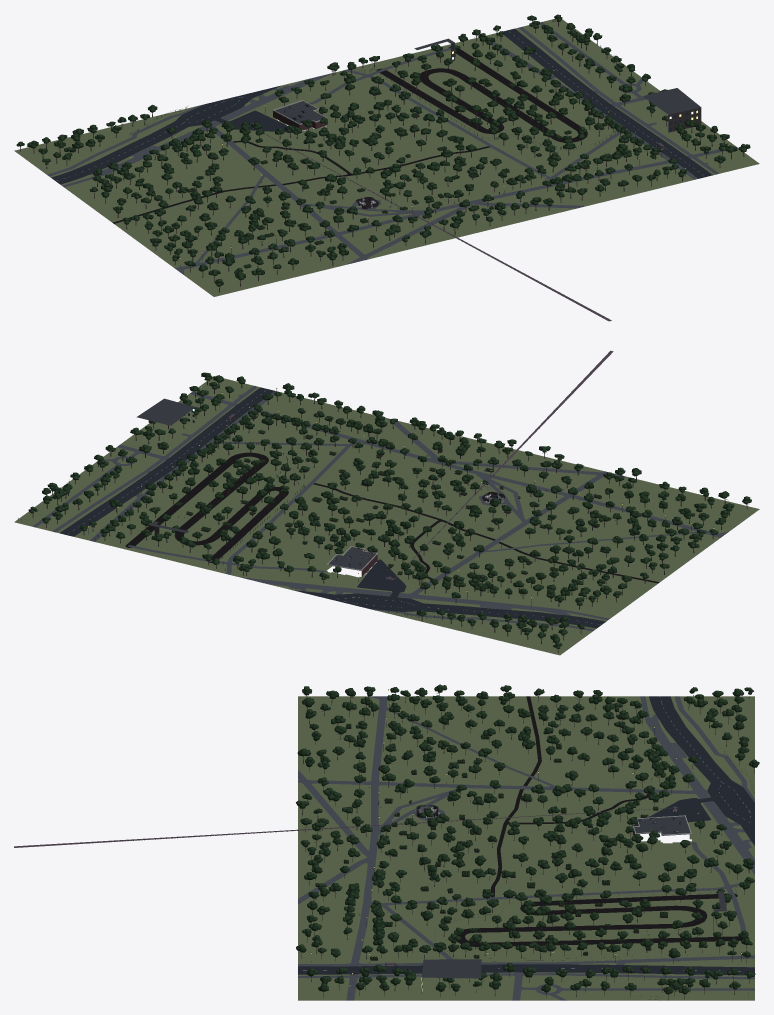
File: level.glb
3 views of the same model, one above another, from view 1: azimuth 30°, elevation 25°; view 2: azimuth 150°, elevation 25°; view 3: azimuth 270°, elevation 25° (orthographic). The views are drawn at different scales.
Visible parts, largest first — view 1: static, canopies, far_canopies; view 2: static, canopies, far_canopies; view 3: static, canopies, far_canopies.
Part boxes in pixels (left/top/right/bottom): static: left=14, top=19, right=759, bottom=321; canopies: left=72, top=44, right=677, bottom=264; far_canopies: left=16, top=14, right=750, bottom=286; static: left=14, top=350, right=759, bottom=655; canopies: left=109, top=394, right=690, bottom=627; far_canopies: left=28, top=372, right=751, bottom=649; static: left=14, top=689, right=754, bottom=1000; canopies: left=318, top=703, right=718, bottom=971; far_canopies: left=296, top=684, right=759, bottom=994.
Size of the model in its own units: 301 by 9.4 by 309.
